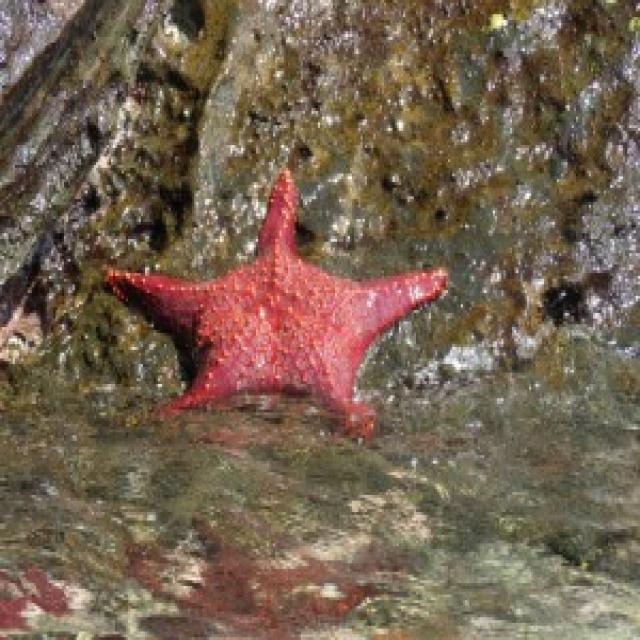Starfish: (93, 164, 450, 448)
